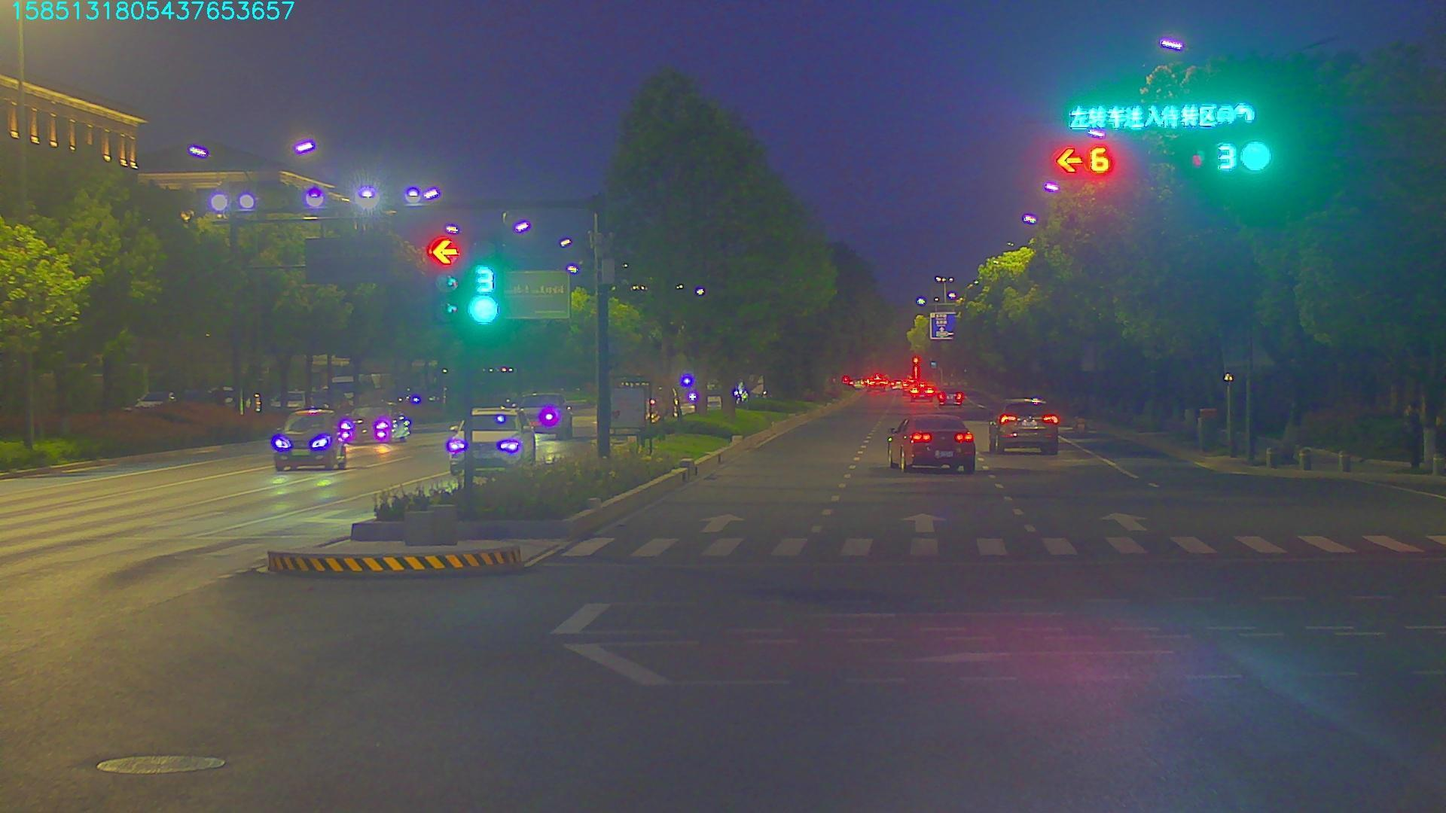green: (1213, 139, 1280, 180)
red: (1051, 144, 1121, 184)
wait_on: (1070, 96, 1263, 131)
